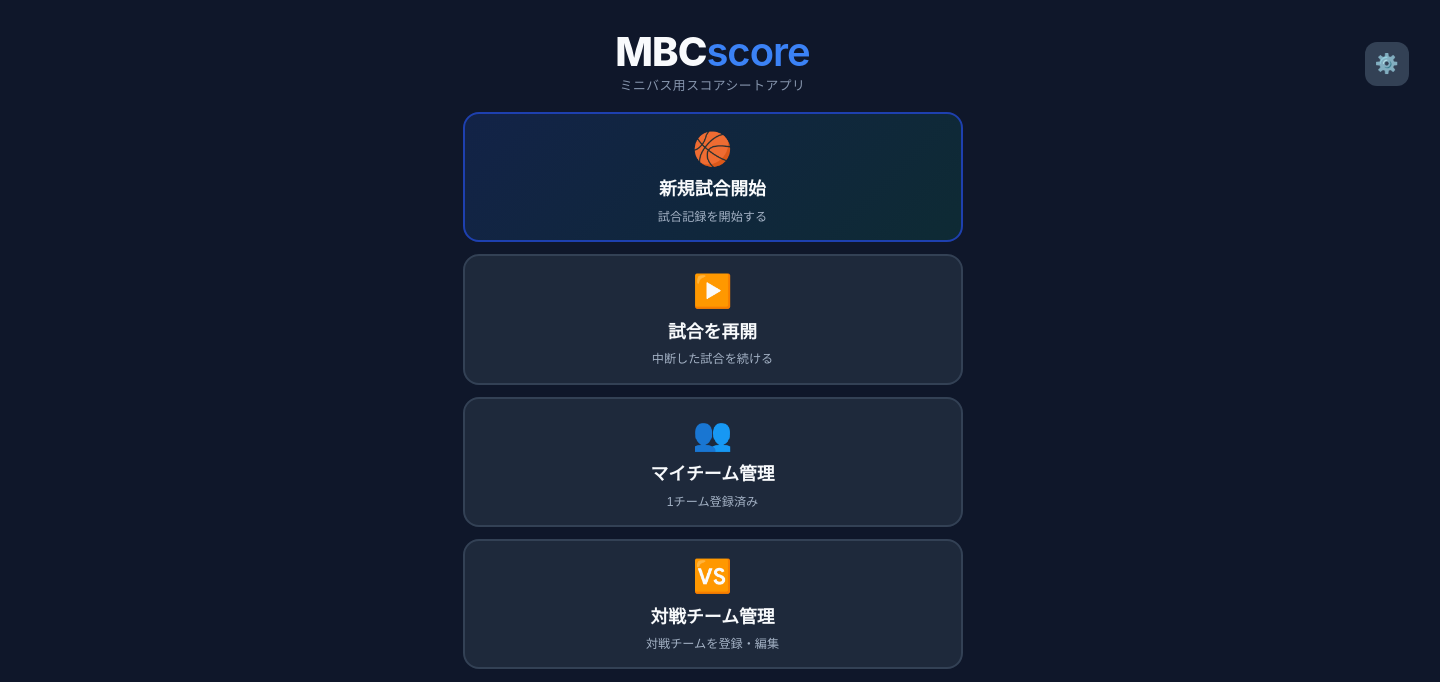
Test case: 記録画面の全画面ボタン › 非対応端末でも、ほかのヘッダー操作は残る
Click the text "試合を再開". click: (713, 330)
box: [668,317,757,343]
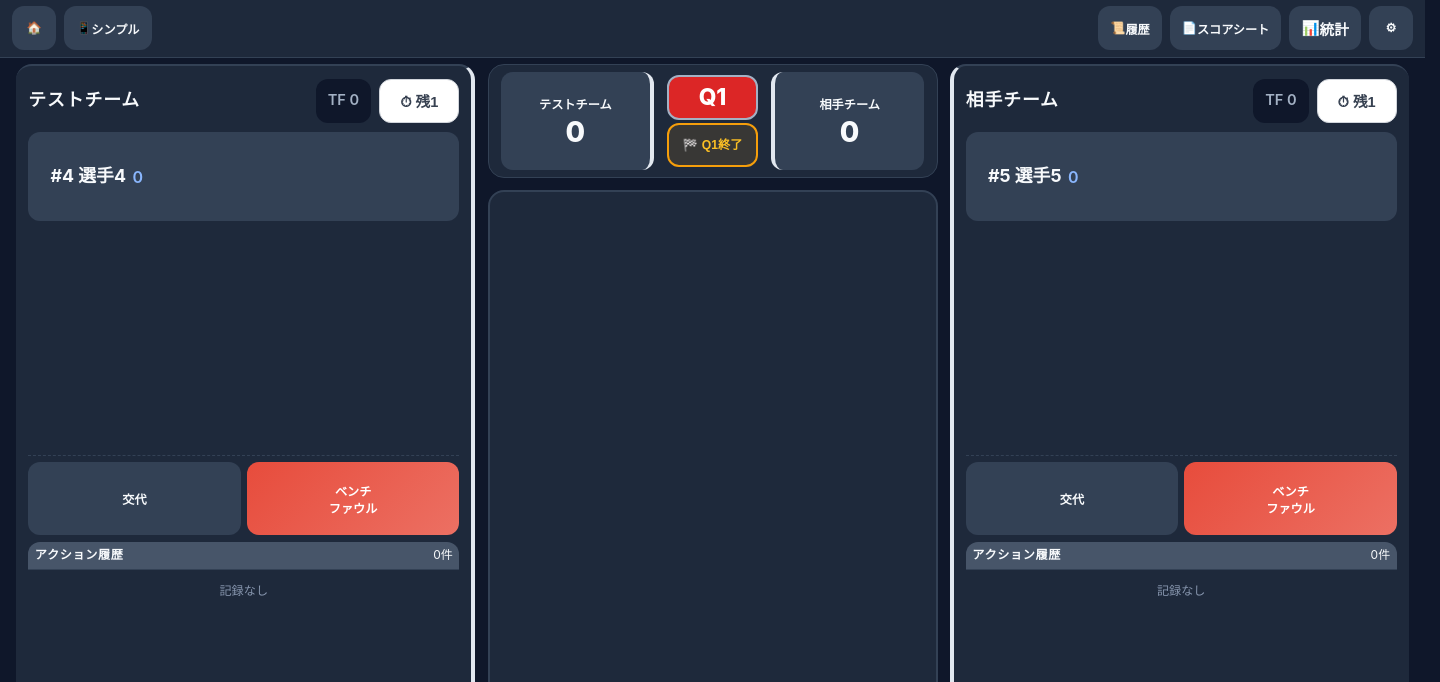
Result: the button "📄 スコアシート" is shown at [1170,6,1281,50]
Result: the button named "ホームへ戻る" is shown at [12,6,56,50]
